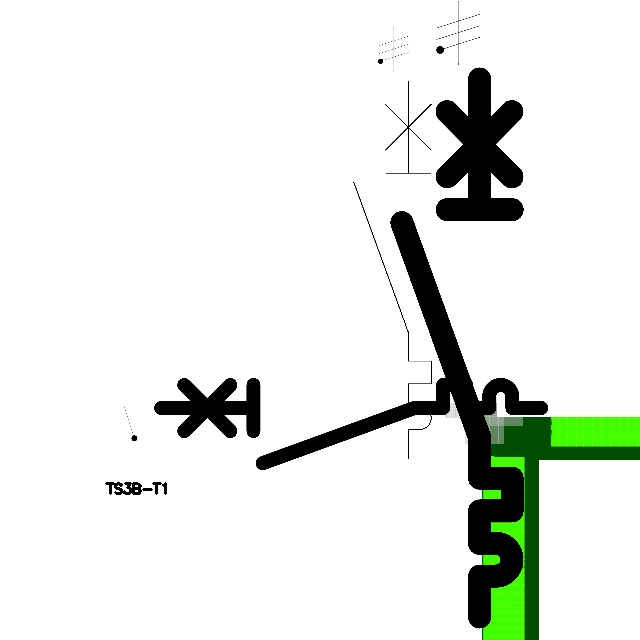interruptor_termomagnetico: (388, 64, 526, 630), (151, 375, 551, 473), (344, 71, 441, 467)
